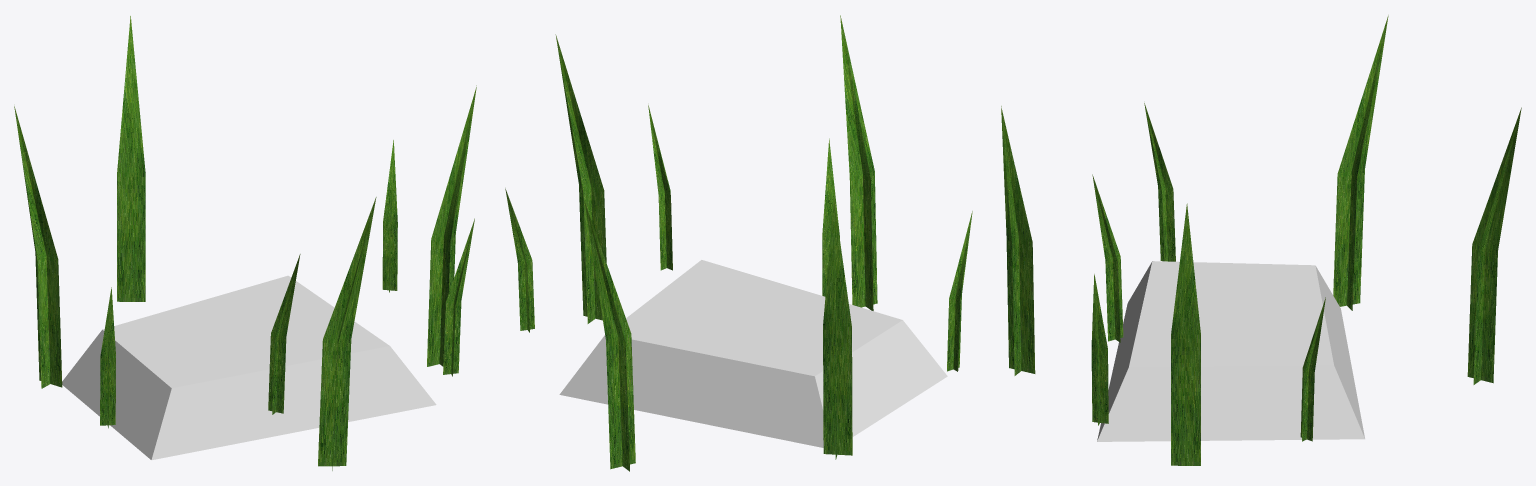
Rendered from Grass_0_2.FBX.
3 views of the same model, side by side, from view 1: azimuth 30°, elevation 25°; view 2: azimuth 150°, elevation 25°; view 3: azimuth 270°, elevation 25° (orthographic). The views are drawn at different scales.
Parts seen in each view (by area): view 1: NatureStone, NatureGrass; view 2: NatureStone, NatureGrass; view 3: NatureStone, NatureGrass.
Boxes of the visible parts, <box> form: NatureStone: <box>62,275,436,460</box>; NatureGrass: <box>14,16,476,470</box>; NatureStone: <box>559,260,947,447</box>; NatureGrass: <box>505,15,972,471</box>; NatureStone: <box>1097,261,1364,441</box>; NatureGrass: <box>1001,15,1521,465</box>.
Bounding box in the file's own units: 0.8503 × 0.5671 × 0.9453.
